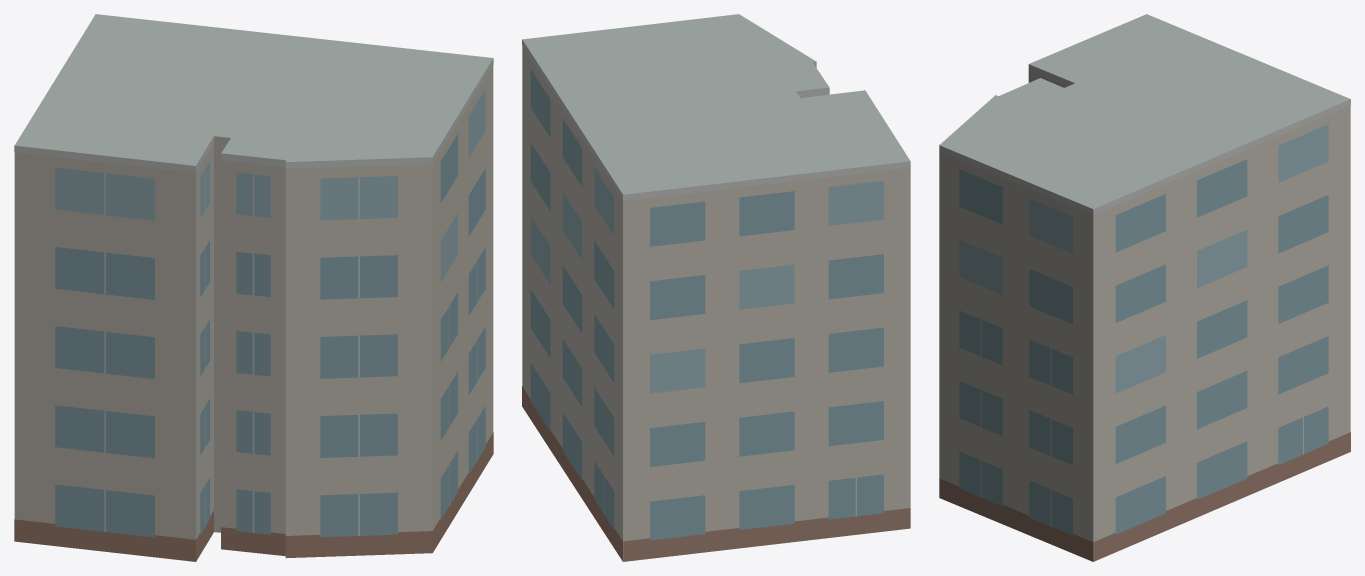
File: survey-upis-32530547.glb
3 renders of one model, left to right at view 1: azimuth 30°, elevation 25°; view 2: azimuth 150°, elevation 25°; view 3: azimuth 270°, elevation 25°, orthographic. The views are drawn at different scales.
Parts seen in each view (by area): view 1: survey-upis-32530547.tmp; view 2: survey-upis-32530547.tmp; view 3: survey-upis-32530547.tmp.
Boxes of the visible parts, x1,y1,x2,y2 form: survey-upis-32530547.tmp: (14,14,493,561); survey-upis-32530547.tmp: (522,14,910,561); survey-upis-32530547.tmp: (939,14,1350,561).
Bounding box in the file's own units: 16.62 × 14 × 14.81.
